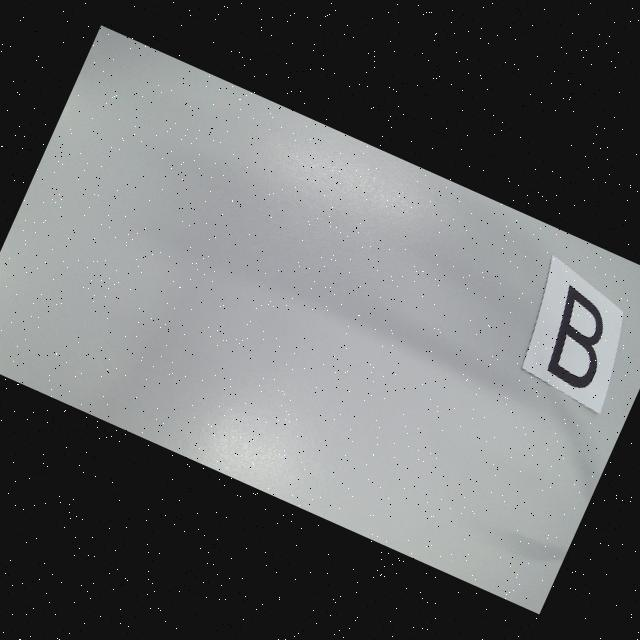FAKE: (532, 284, 624, 393)
